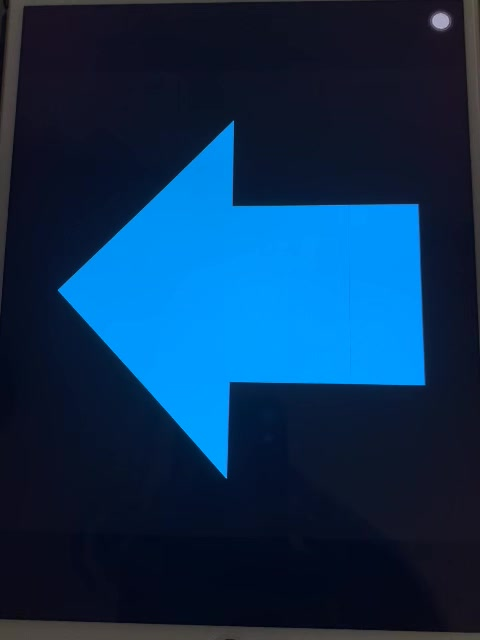left: (46, 110, 432, 487)
